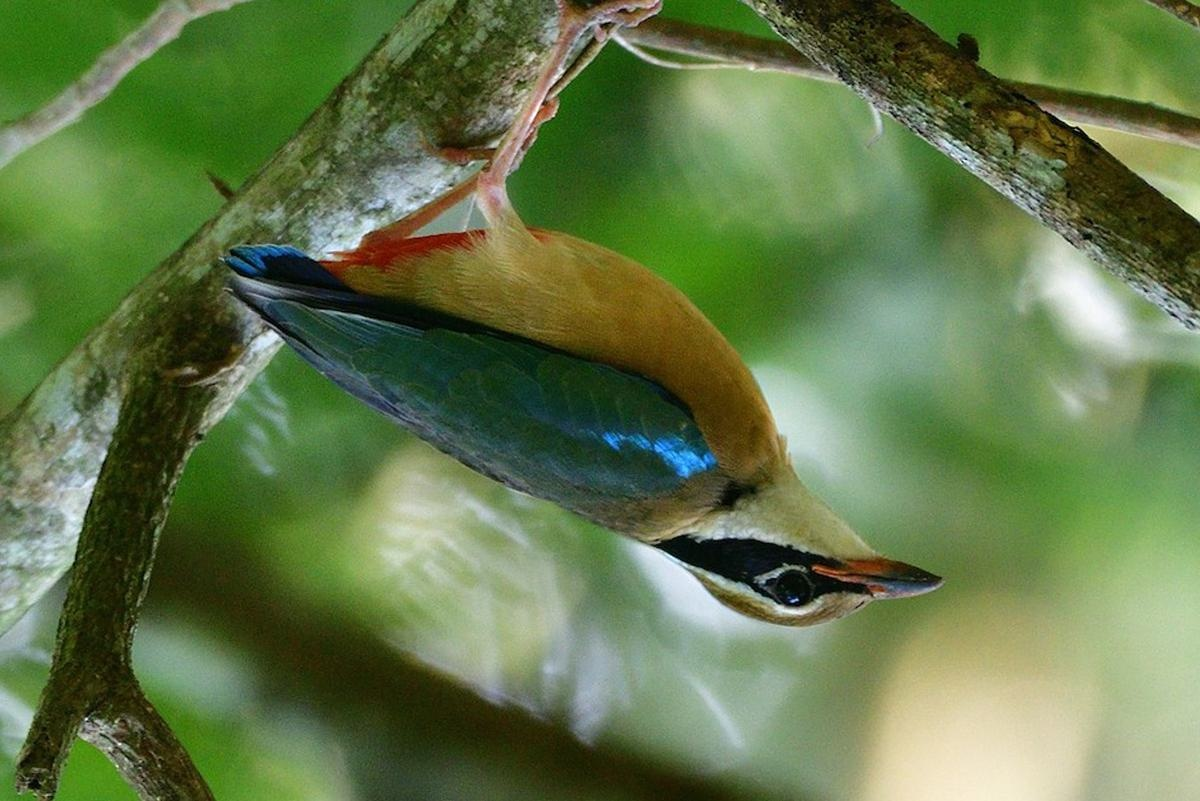pitta: (184, 172, 958, 632)
